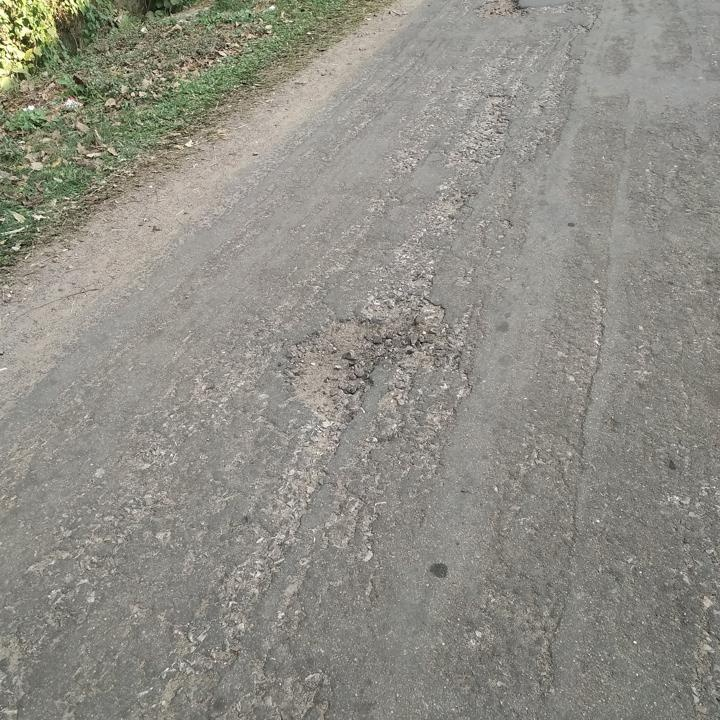pothole: (284, 312, 393, 426)
